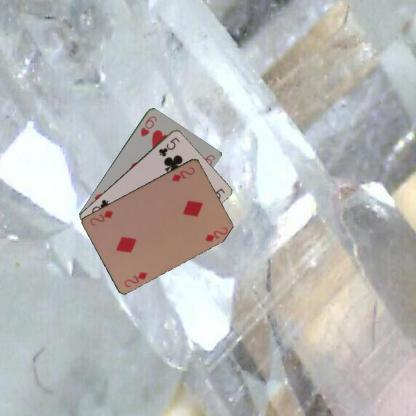2d: (122, 268, 148, 288), (169, 164, 196, 183)
5c: (156, 134, 181, 158)
6h: (138, 113, 158, 138)
